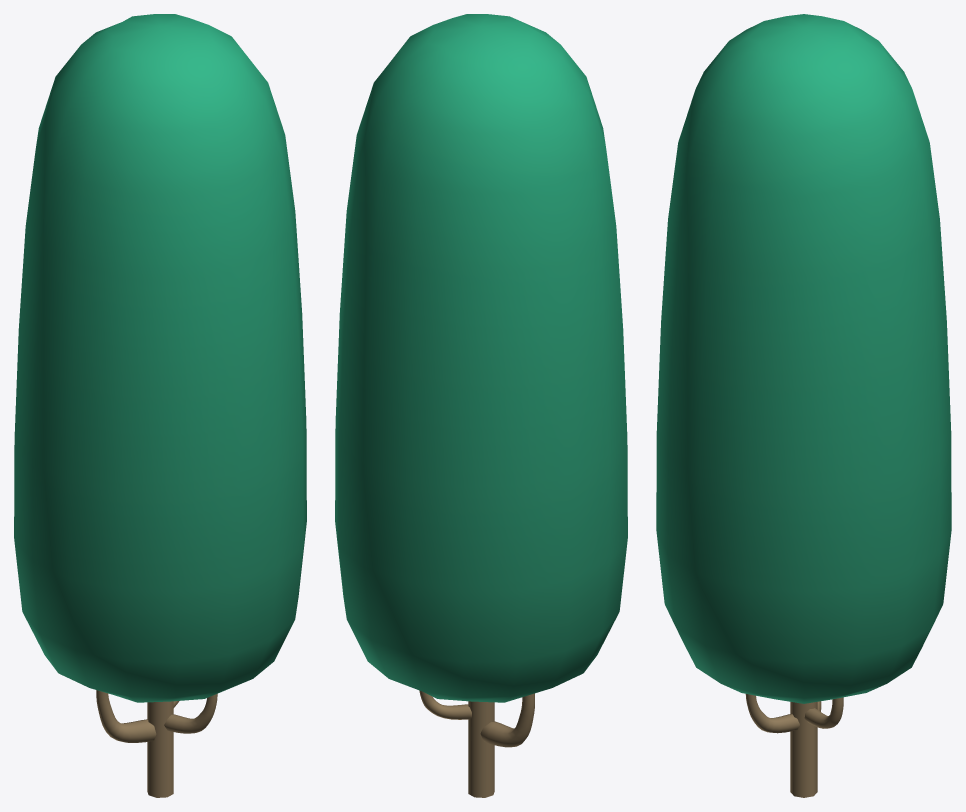
Rendered from SM_Tree_Capsule_L_1.fbx.
3 views of the same model, side by side, from view 1: azimuth 30°, elevation 25°; view 2: azimuth 150°, elevation 25°; view 3: azimuth 270°, elevation 25° (orthographic).
Parts seen in each view (by area): view 1: SM_Tree_Capsule_L_1; view 2: SM_Tree_Capsule_L_1; view 3: SM_Tree_Capsule_L_1.
Boxes of the visible parts, box(x1,y1,x2,y2) form: SM_Tree_Capsule_L_1: box(14, 14, 306, 797); SM_Tree_Capsule_L_1: box(335, 14, 627, 797); SM_Tree_Capsule_L_1: box(656, 14, 951, 797).
Size of the model in its own units: 146 by 418 by 146.
